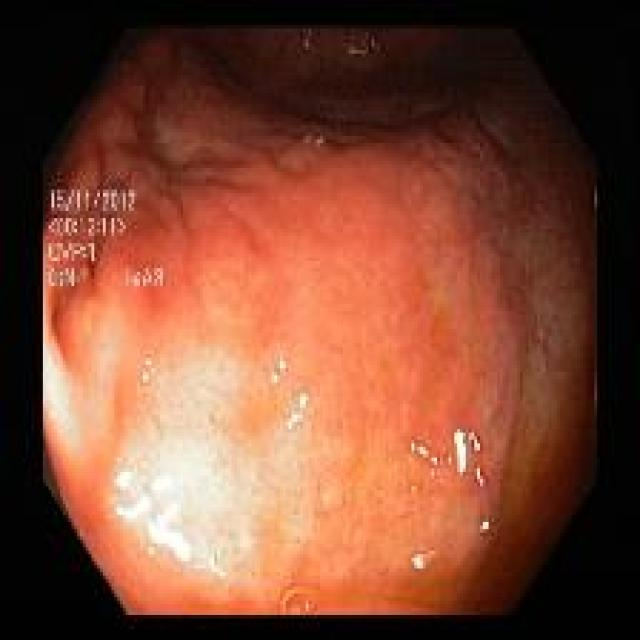ulcerative-colitis: (45, 48, 595, 614)
